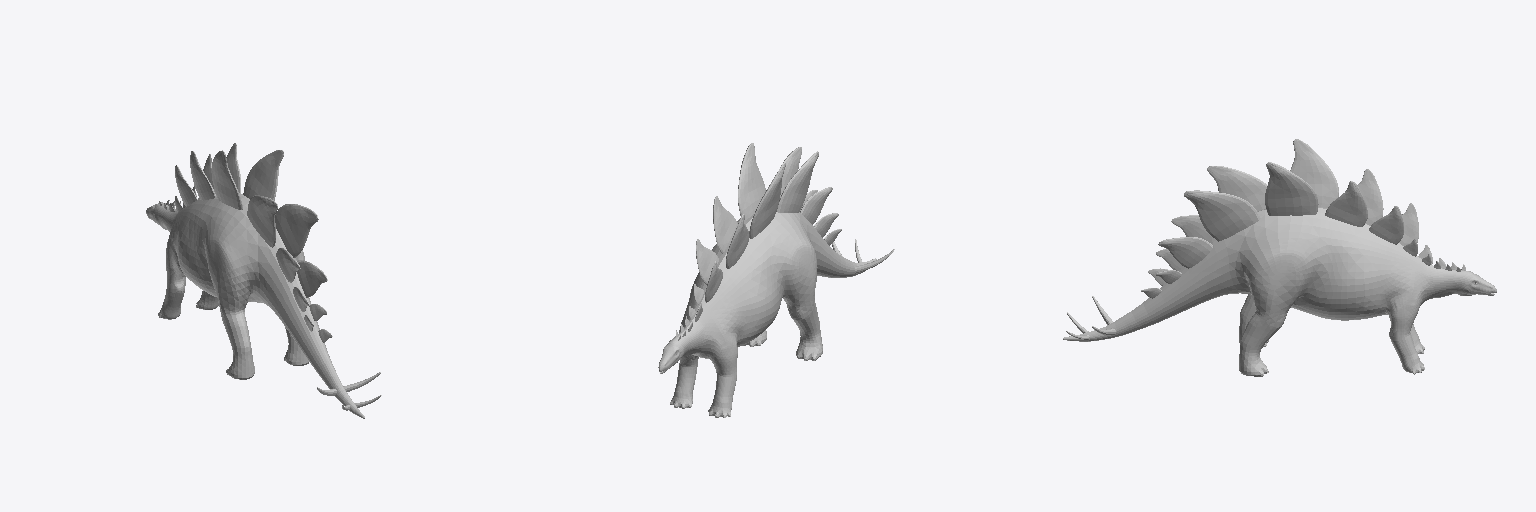
3 renders of one model, left to right at view 1: azimuth 30°, elevation 25°; view 2: azimuth 150°, elevation 25°; view 3: azimuth 270°, elevation 25°, orthographic.
Parts seen in each view (by area): view 1: Stegosaurus_; view 2: Stegosaurus_; view 3: Stegosaurus_.
Part boxes in pixels (x1,y1,x2,y2): Stegosaurus_: (146,143,381,418); Stegosaurus_: (658,143,894,417); Stegosaurus_: (1063,139,1496,376).
Size of the model in its own units: 65.46 by 158 by 297.